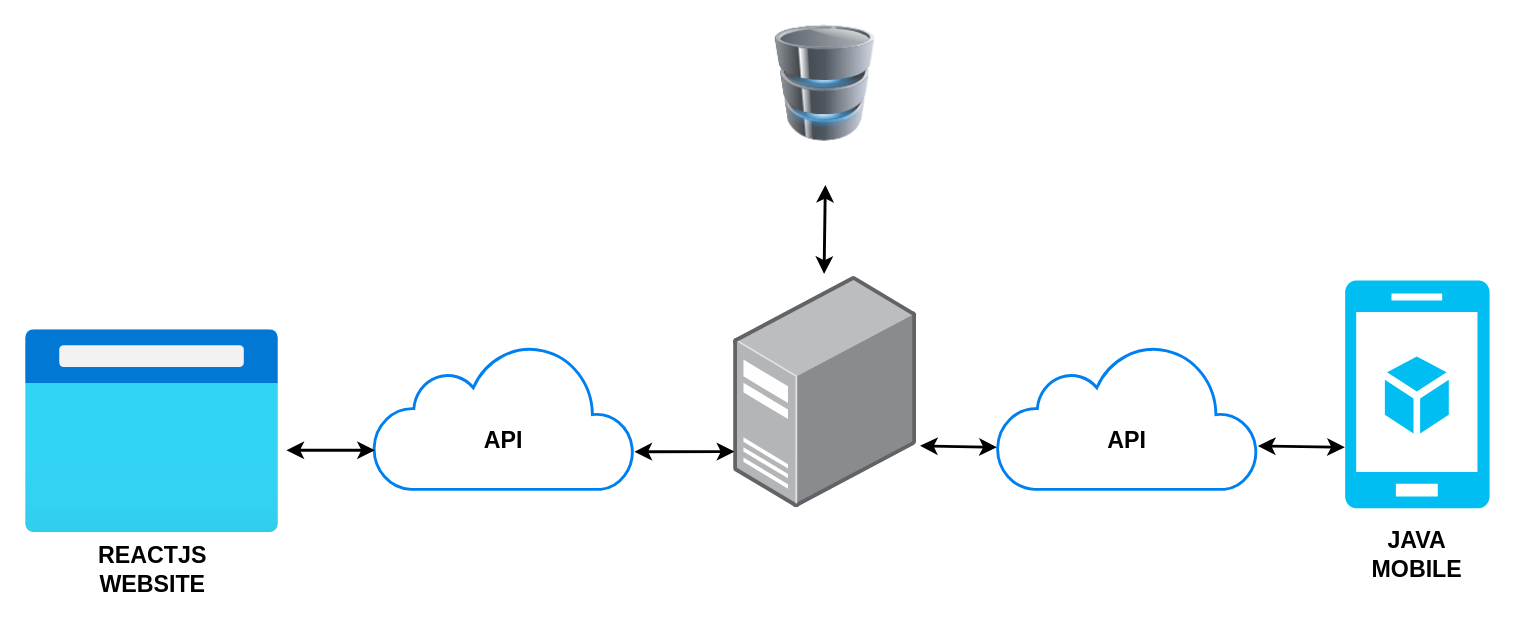
The diagram is 1514 pixels wide and 621 high, and some of its shapes have lost their labels. The shapes that lost their labels are listed below. From the top down, each one's centre as x and y in pixels, then its label:
At point (825, 83): "Mongo DB".
At point (824, 392): "NODEJS SERVER".
